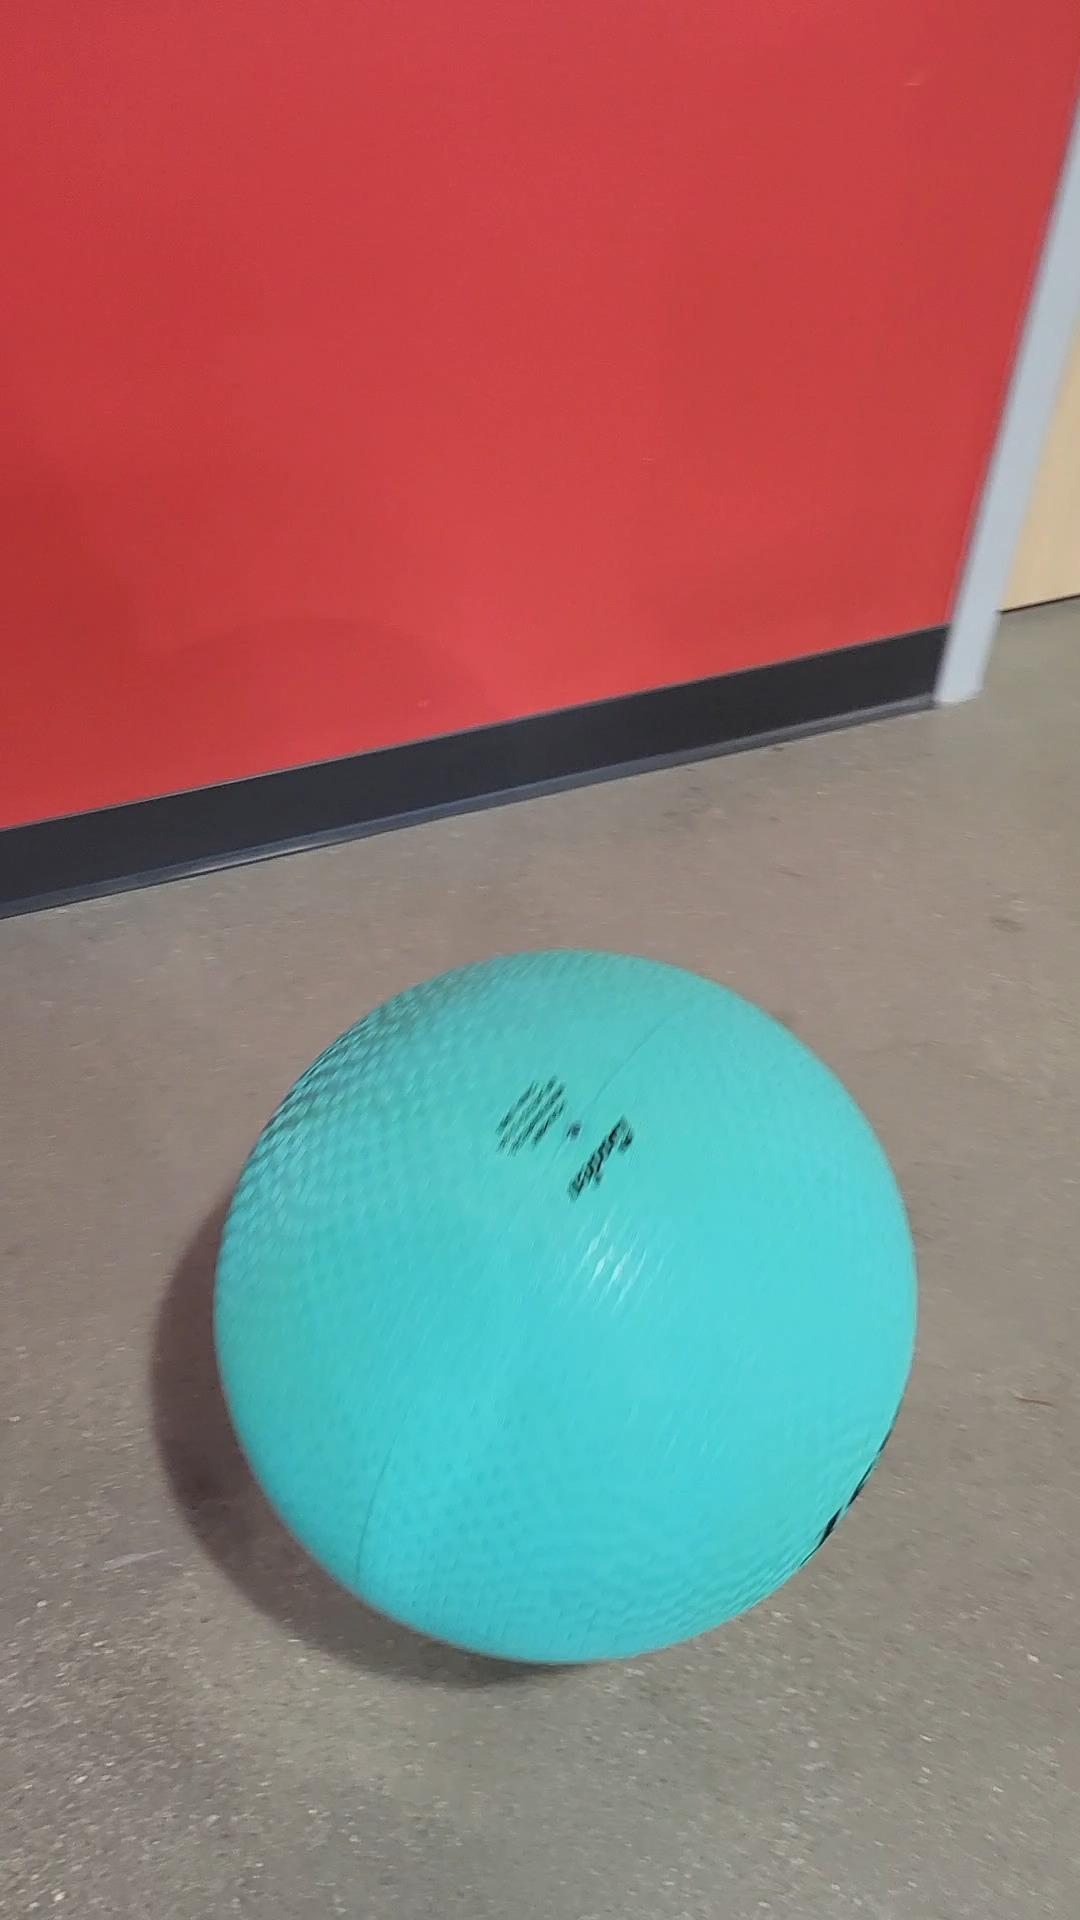algae: (216, 942, 918, 1660)
